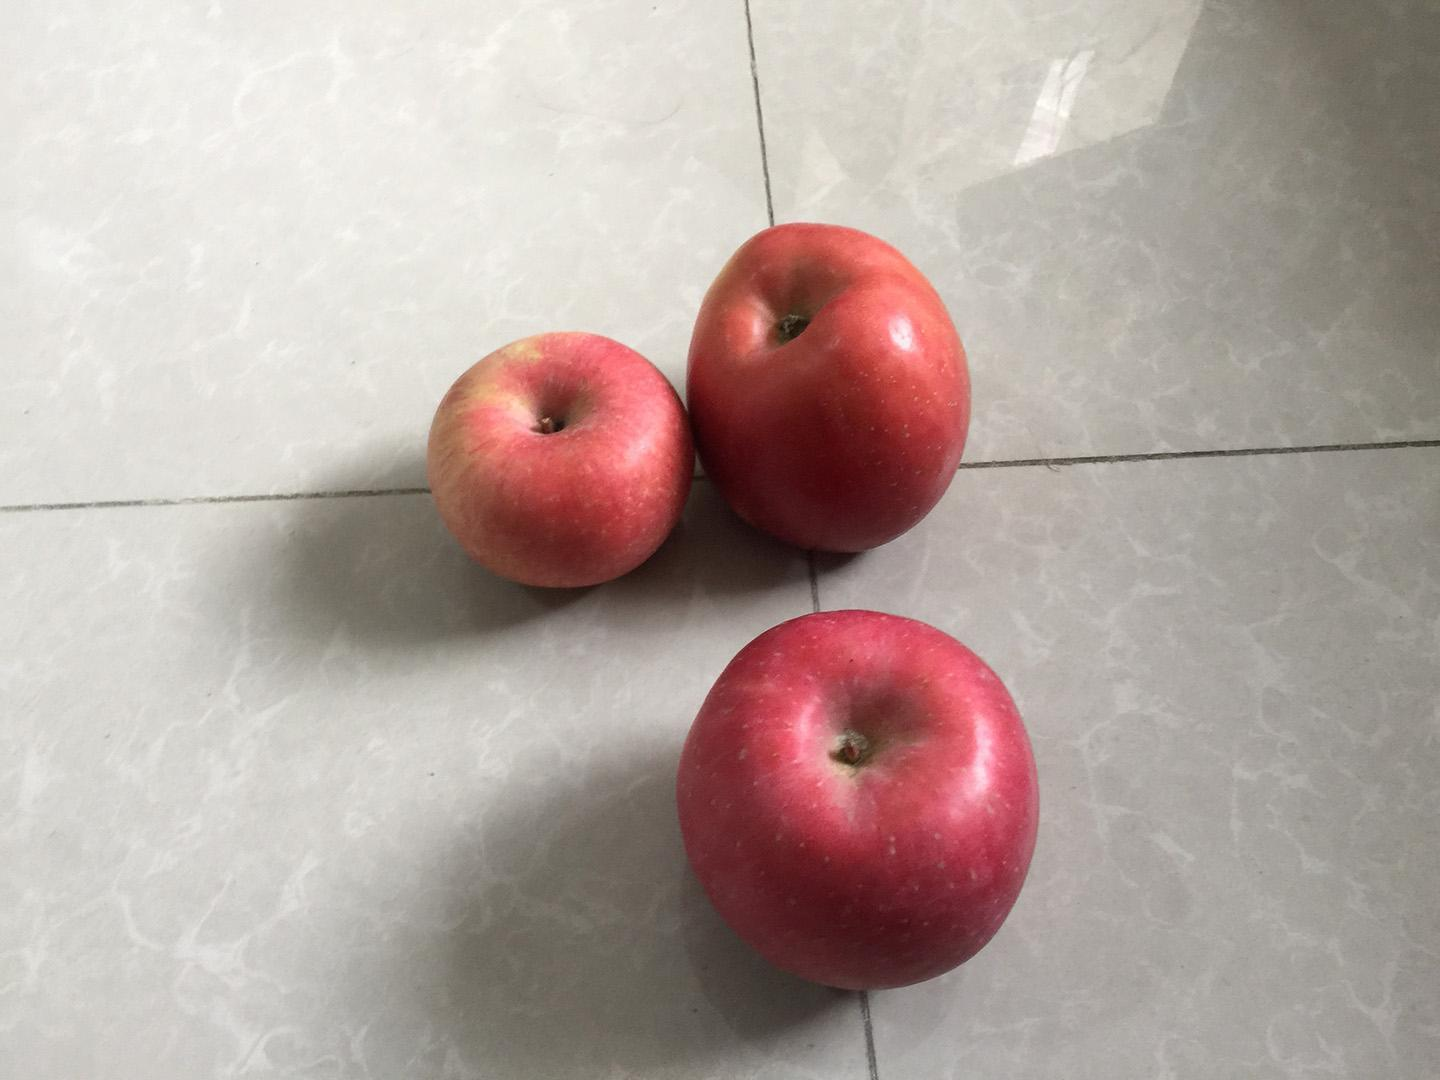apple: (664, 602, 1050, 1002), (677, 216, 984, 563), (418, 320, 706, 606)
